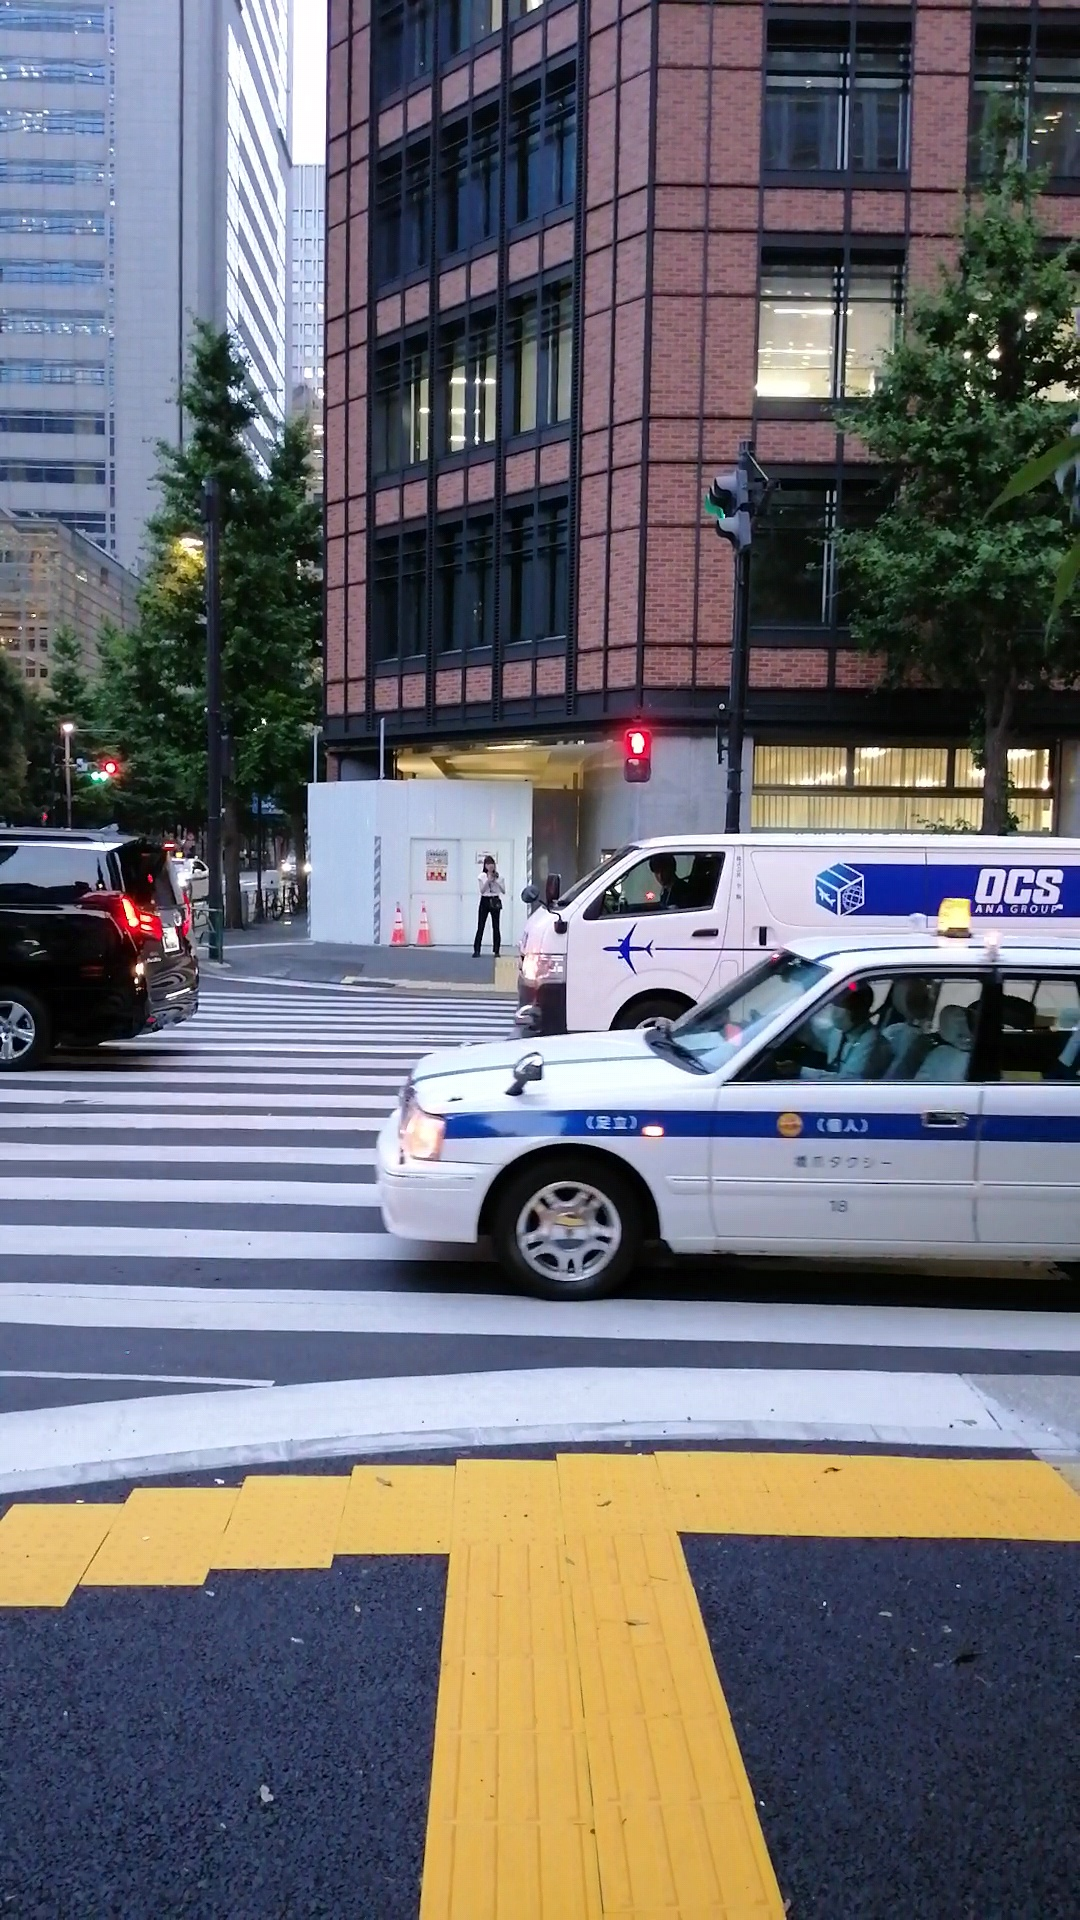red: (622, 725, 653, 781)
